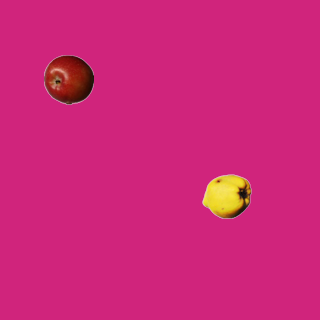Apple Braeburn: (43, 54, 93, 104)
Quince: (201, 171, 251, 221)
